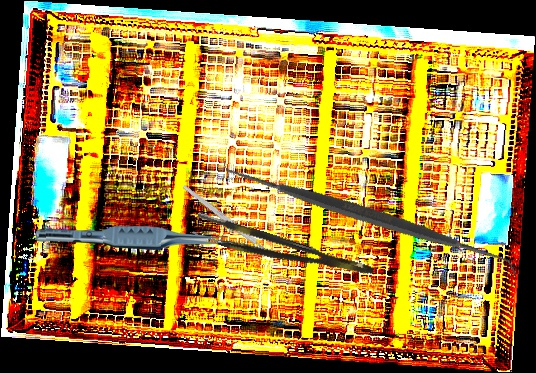Scalpel Handle: (181, 183, 273, 257)
Spatula Surgical: (221, 72, 518, 361)
Tissue Forceps: (191, 211, 375, 291), (35, 224, 229, 253)
